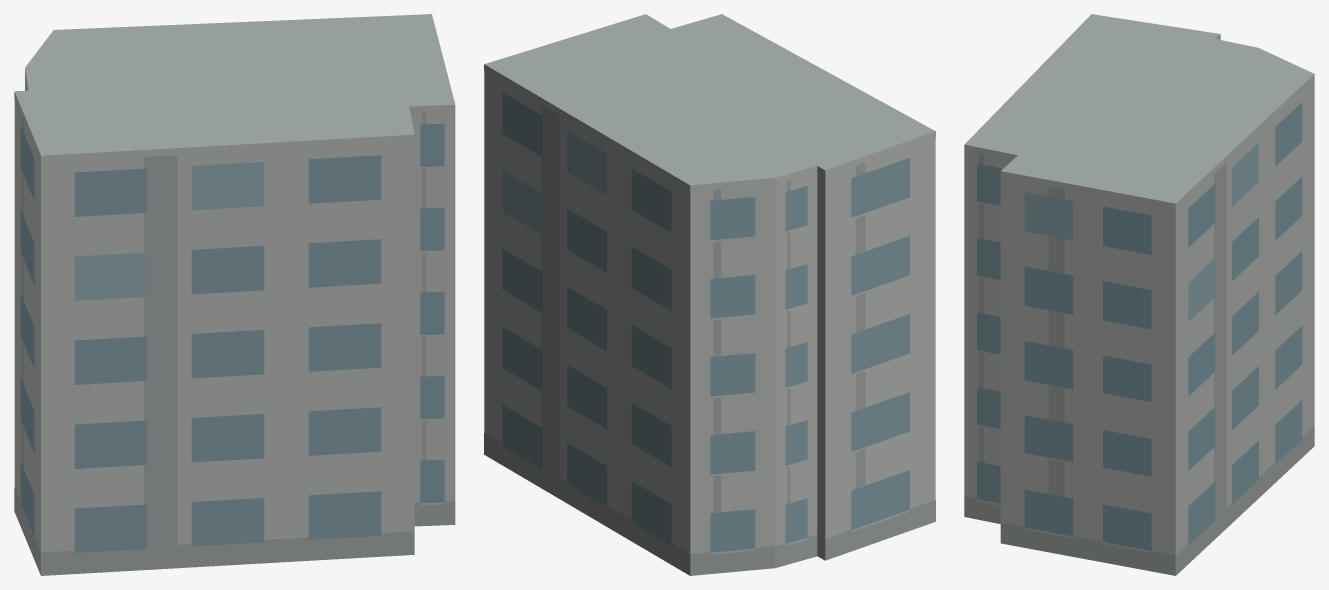
The model's file is residential-2eb58d1a-c963-4c44-936d-3521f8904331.glb.
The picture shows the model from 3 angles, left to right: view 1: azimuth 30°, elevation 25°; view 2: azimuth 150°, elevation 25°; view 3: azimuth 270°, elevation 25°; orthographic projection. The views are drawn at different scales.
Visible parts, largest first — view 1: residential-2eb58d1a-c963-4c44-936d-3521f8904331.tmp; view 2: residential-2eb58d1a-c963-4c44-936d-3521f8904331.tmp; view 3: residential-2eb58d1a-c963-4c44-936d-3521f8904331.tmp.
Part boxes in pixels (left/top/right/bottom): residential-2eb58d1a-c963-4c44-936d-3521f8904331.tmp: left=14, top=14, right=455, bottom=575; residential-2eb58d1a-c963-4c44-936d-3521f8904331.tmp: left=484, top=14, right=935, bottom=575; residential-2eb58d1a-c963-4c44-936d-3521f8904331.tmp: left=964, top=14, right=1314, bottom=575.
Size of the model in its own units: 15.84 by 14.5 by 12.37.
